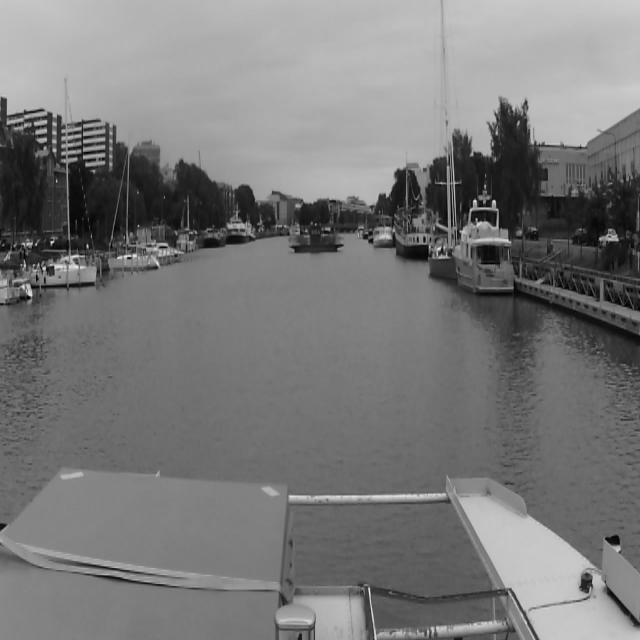ship: (40, 80, 96, 285), (429, 10, 461, 272), (108, 129, 160, 269), (454, 194, 515, 293), (0, 178, 30, 306), (283, 221, 341, 255), (396, 208, 426, 259), (227, 209, 247, 244), (374, 213, 392, 247), (200, 225, 226, 245)
